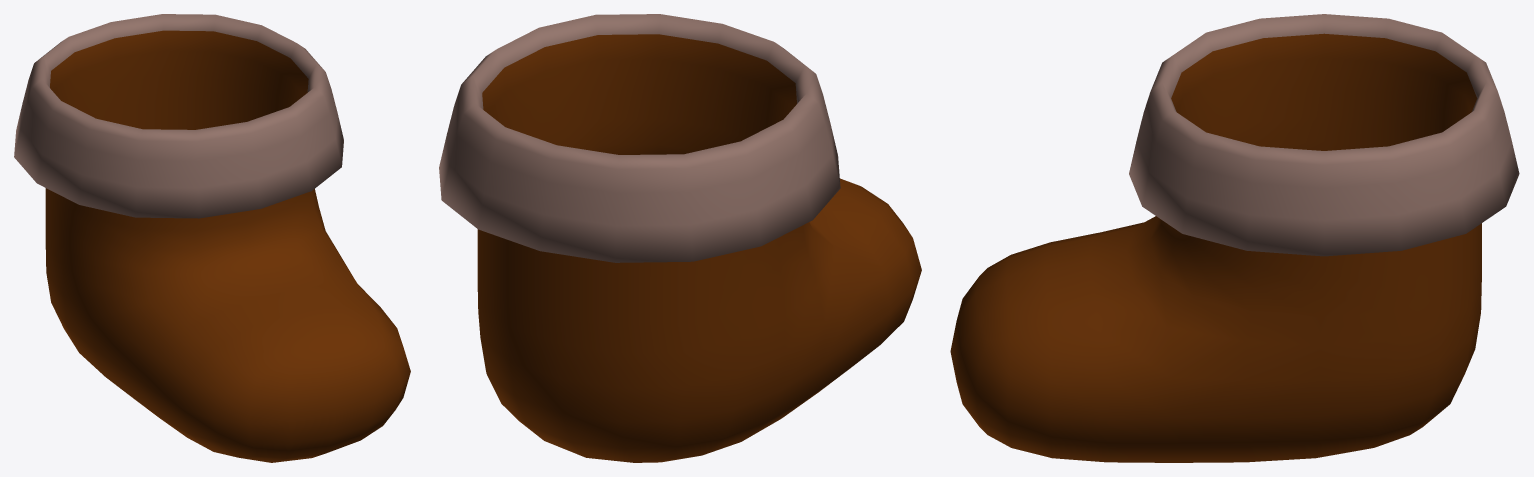
Rendered from Speed.fbx.
3 renders of one model, left to right at view 1: azimuth 30°, elevation 25°; view 2: azimuth 150°, elevation 25°; view 3: azimuth 270°, elevation 25°, orthographic. The views are drawn at different scales.
Visible parts, largest first — view 1: SpeedPowerUp; view 2: SpeedPowerUp; view 3: SpeedPowerUp.
Boxes of the visible parts, x1,y1,x2,y2 form: SpeedPowerUp: (14, 14, 410, 462); SpeedPowerUp: (439, 14, 921, 462); SpeedPowerUp: (950, 14, 1519, 462).
Bounding box in the file's own units: 227 × 228 × 331.
